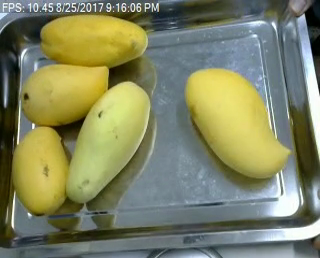Mango: (185, 69, 292, 181), (64, 80, 151, 203), (35, 11, 148, 67), (20, 64, 111, 126), (11, 125, 70, 216)
